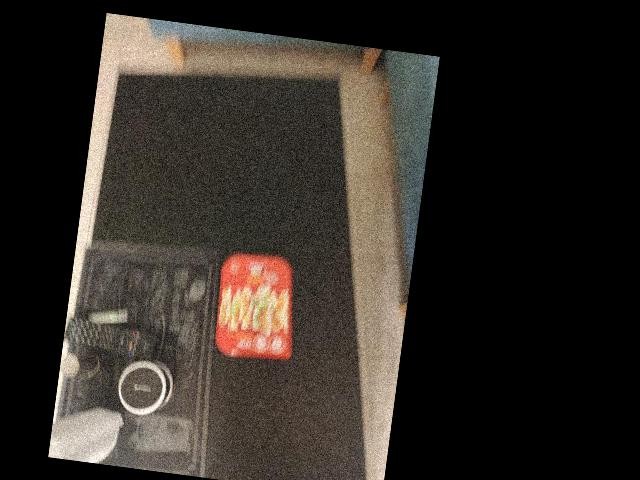cheese: (210, 248, 306, 362)
